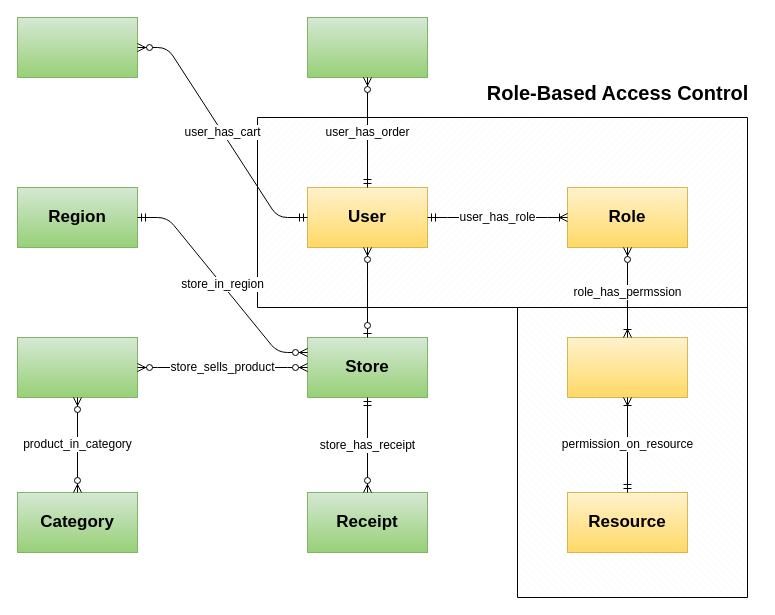
Image size: 775x615. Some labels were removed from this diagram. The shapes that lost their labels are listed below. From the top down, each one's box as (x1, y1, x2, y2) in pixels, then its label:
(16, 16, 138, 78): Cart
(306, 16, 428, 78): Order
(16, 336, 138, 398): Product
(566, 336, 688, 398): Permission
